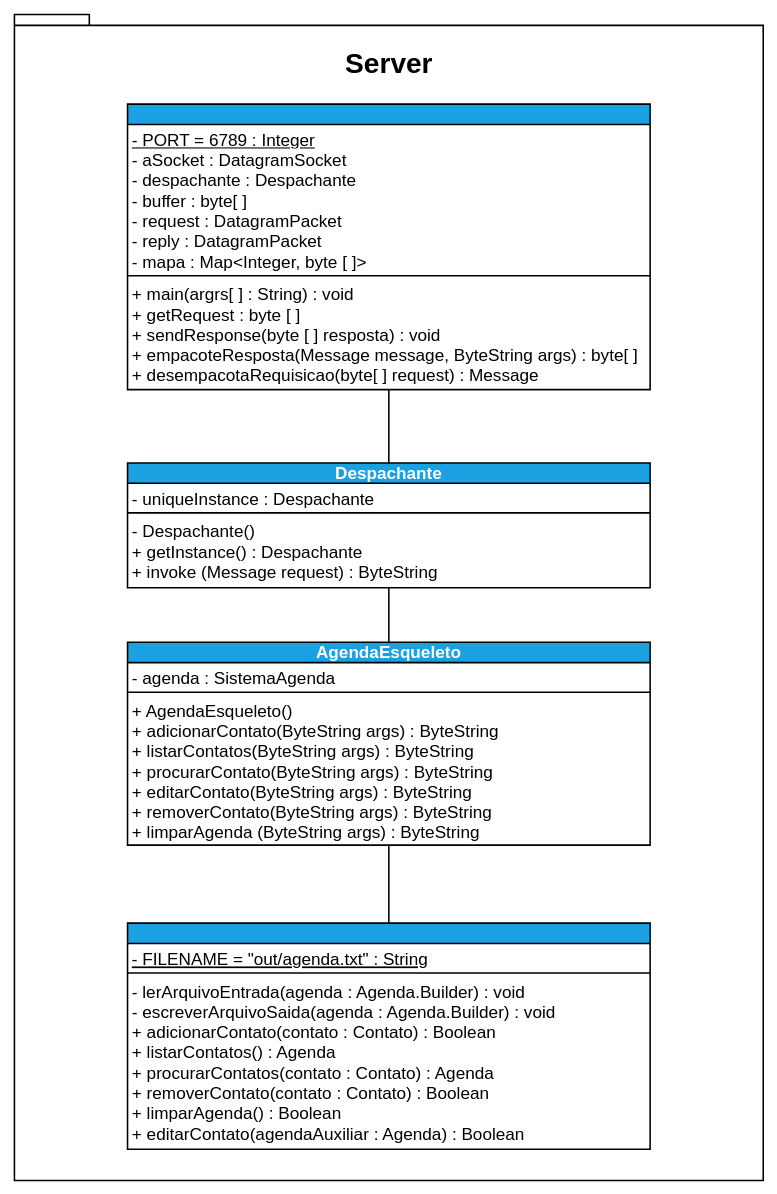
The diagram is 777 pixels wide and 1194 high, and some of its shapes have lost their labels. The box of each missing label's shape, as (x1, y1, x2, y2) in pixels:
SistemaAgenda: (126, 922, 651, 1150)
UDPServer: (126, 103, 651, 390)
